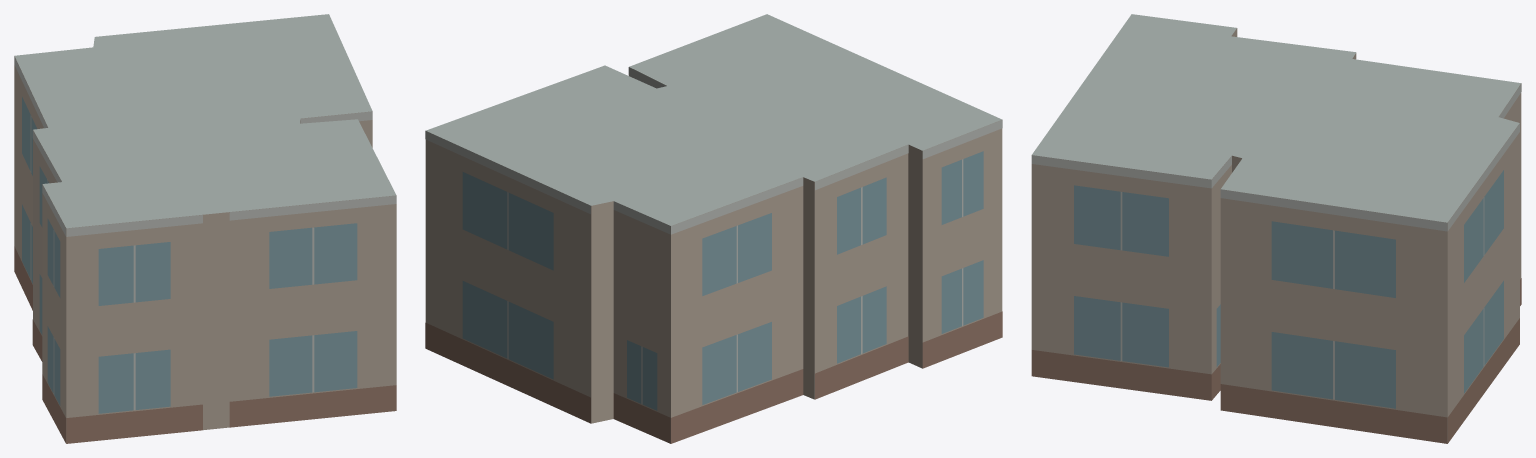
The model's file is survey-upis-32695712.glb.
The picture shows the model from 3 angles, left to right: view 1: azimuth 30°, elevation 25°; view 2: azimuth 150°, elevation 25°; view 3: azimuth 270°, elevation 25°; orthographic projection. The views are drawn at different scales.
Parts seen in each view (by area): view 1: survey-upis-32695712.tmp; view 2: survey-upis-32695712.tmp; view 3: survey-upis-32695712.tmp.
Part boxes in pixels (left/top/right/bottom): survey-upis-32695712.tmp: left=14, top=14, right=396, bottom=443; survey-upis-32695712.tmp: left=425, top=14, right=1002, bottom=443; survey-upis-32695712.tmp: left=1031, top=14, right=1521, bottom=443.
Size of the model in its own units: 12.35 by 6.1 by 12.25.
